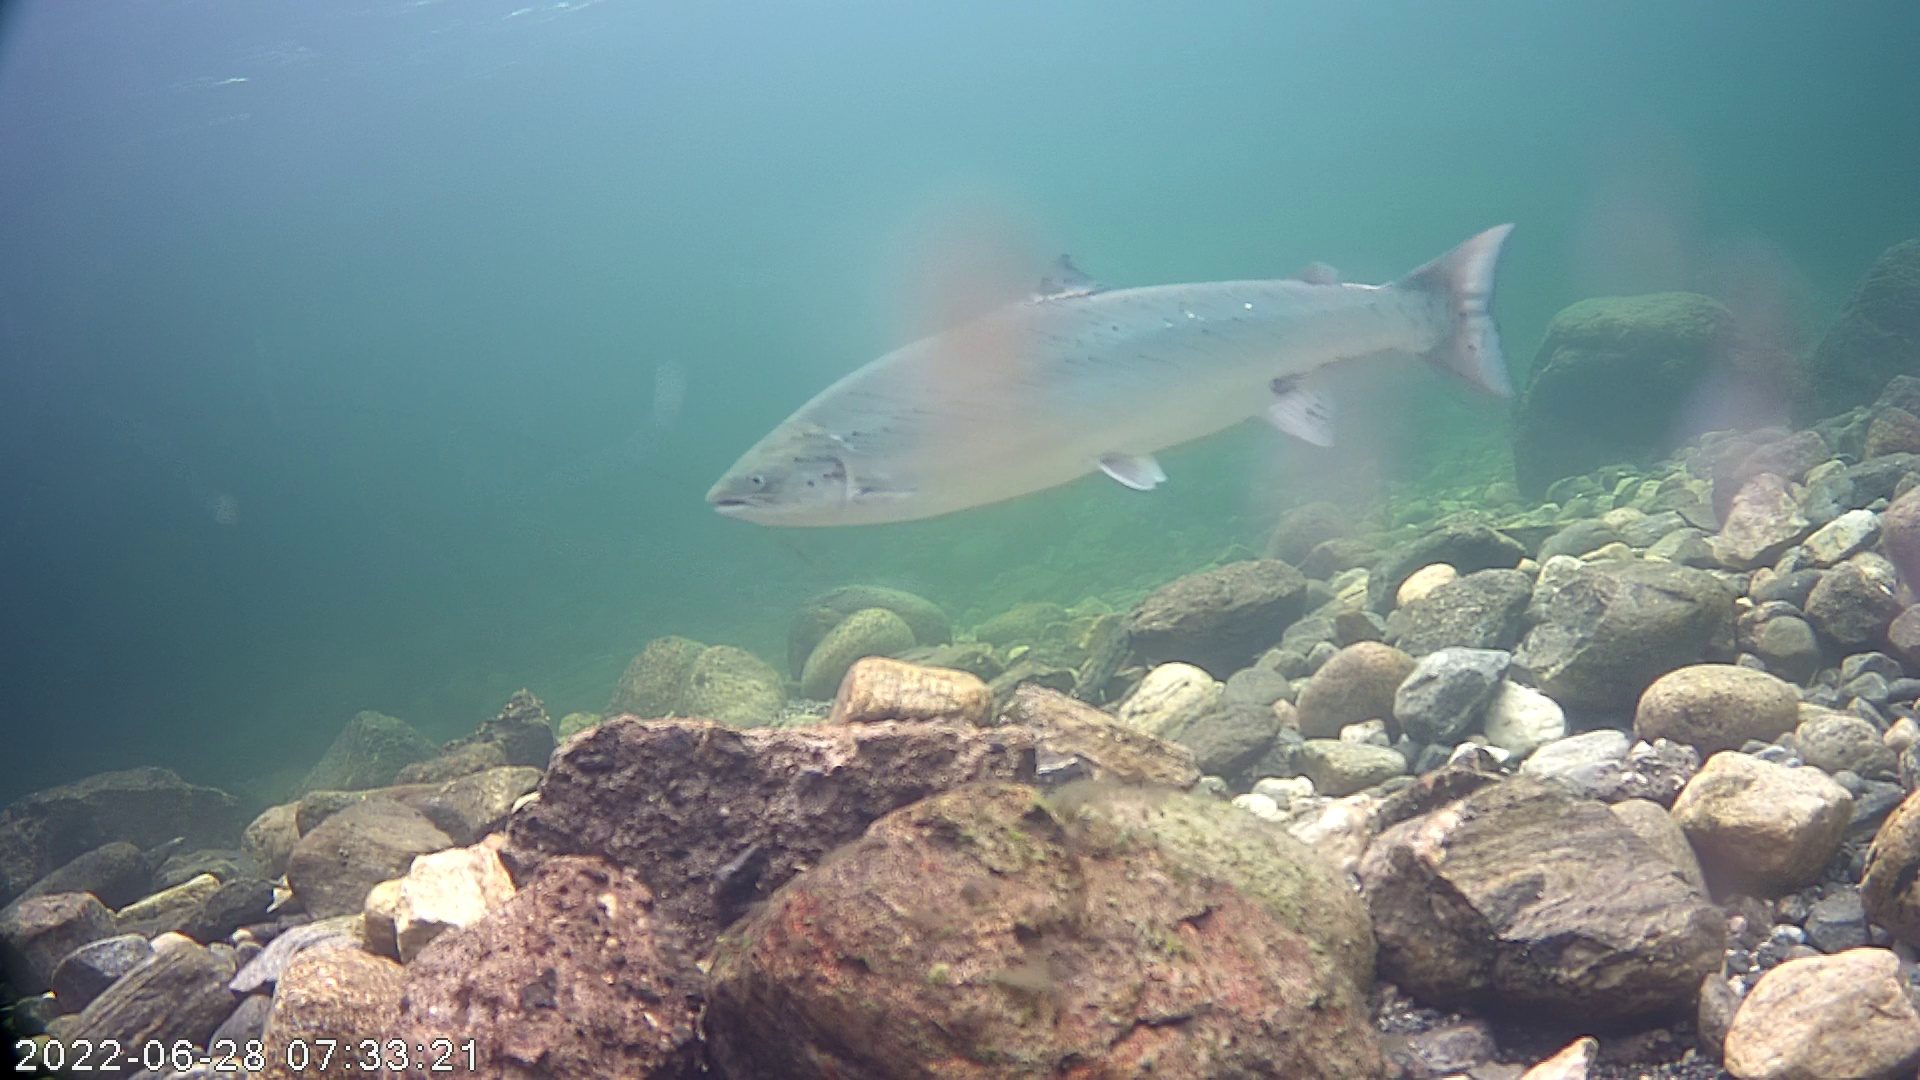salmon: (695, 142, 1557, 574)
